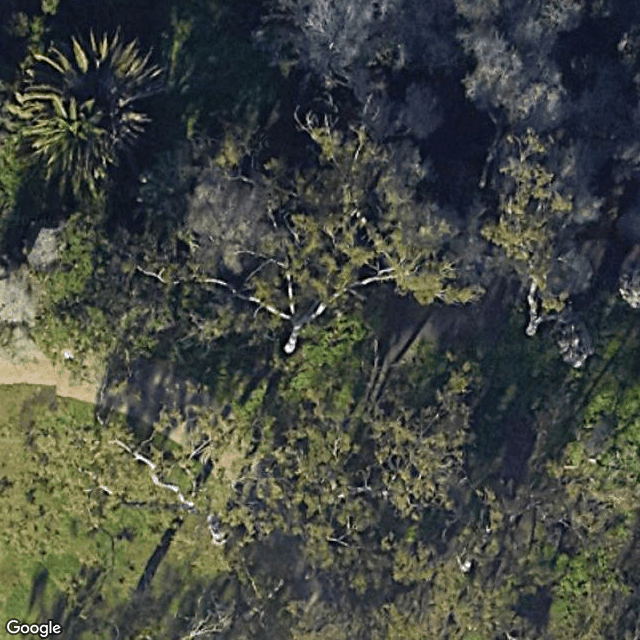palm: (8, 19, 169, 203)
